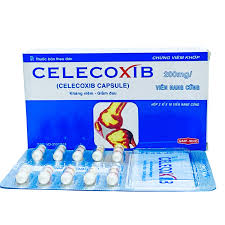Celecoxip: (35, 64, 152, 80), (159, 156, 175, 186)
